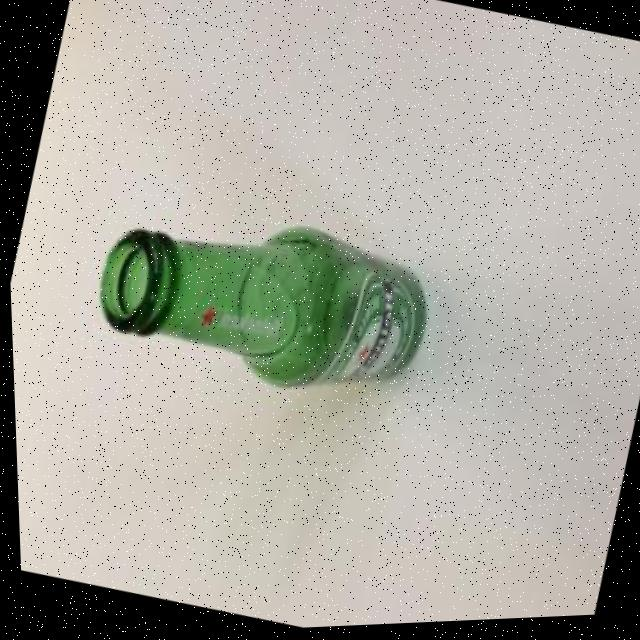glass: (67, 171, 453, 444)
